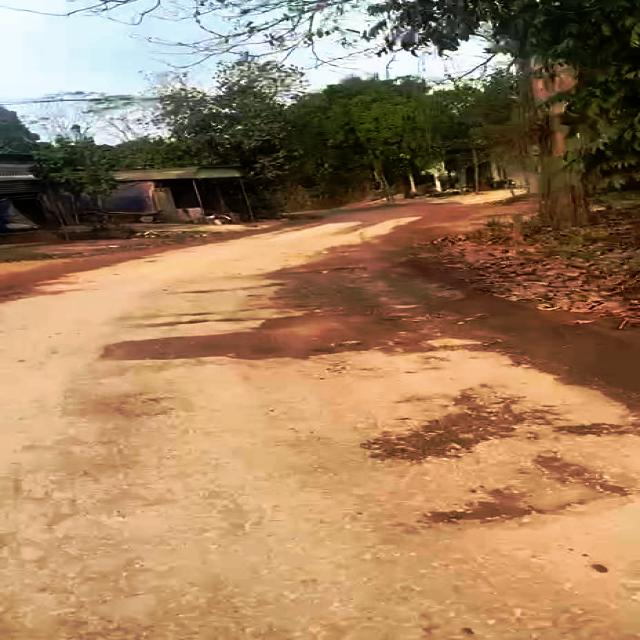pothole: (92, 300, 411, 370), (423, 448, 634, 527), (366, 379, 535, 467)
